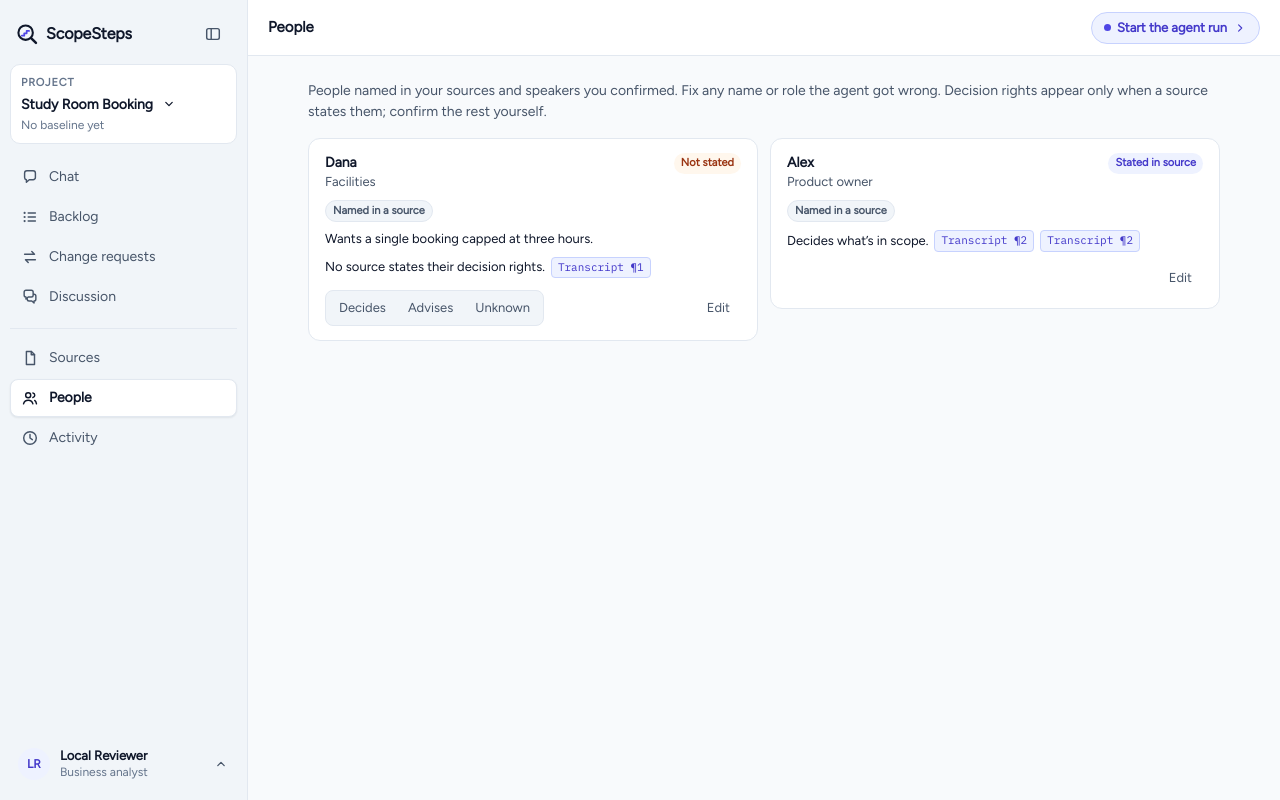
Scenario: People page › lets an editor correct a name and role in place, at the revision on screen
Expected: the element "Dana" is shown, 308,138 -> 758,341
Click the button with aria-label "Edit Dana": (718, 308) 696,293 -> 741,323
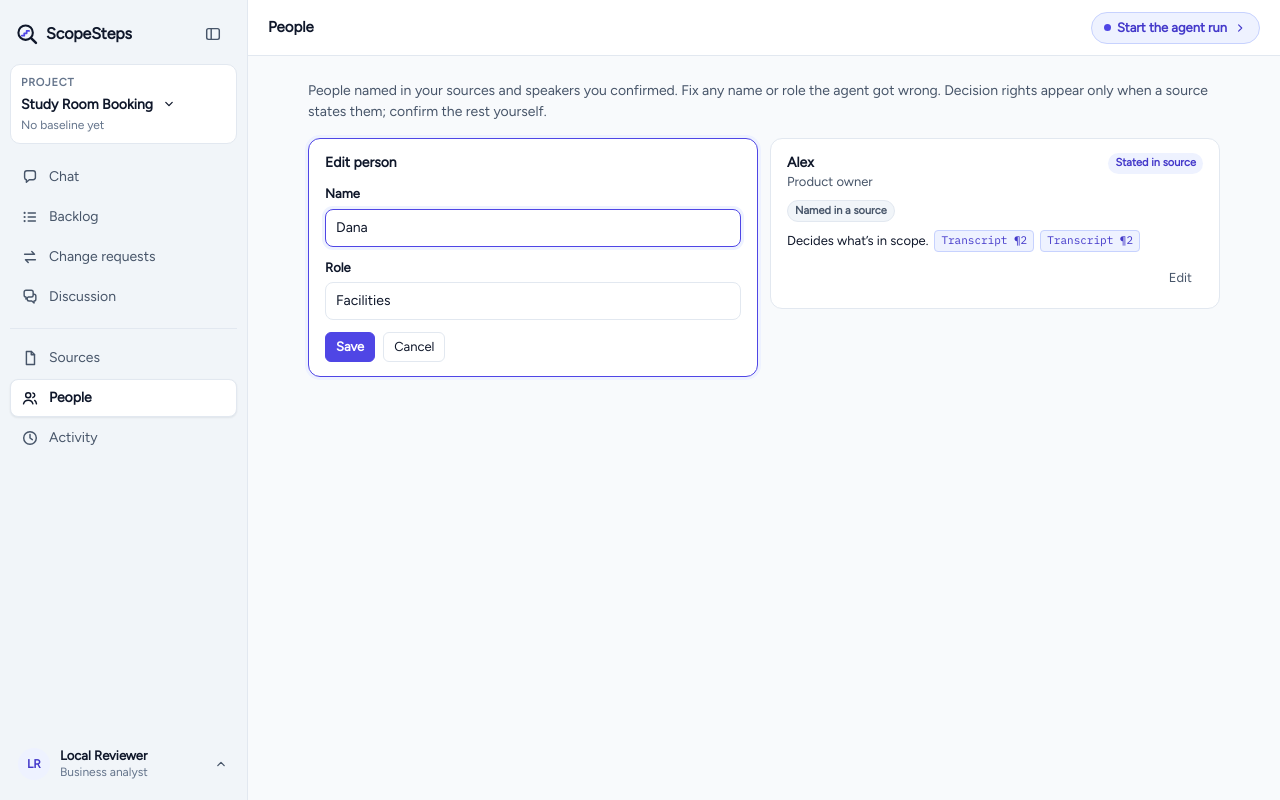
Replace the text in the field labelled "Name" with "  Dana Ruiz ": (533, 228) 325,209 -> 741,247
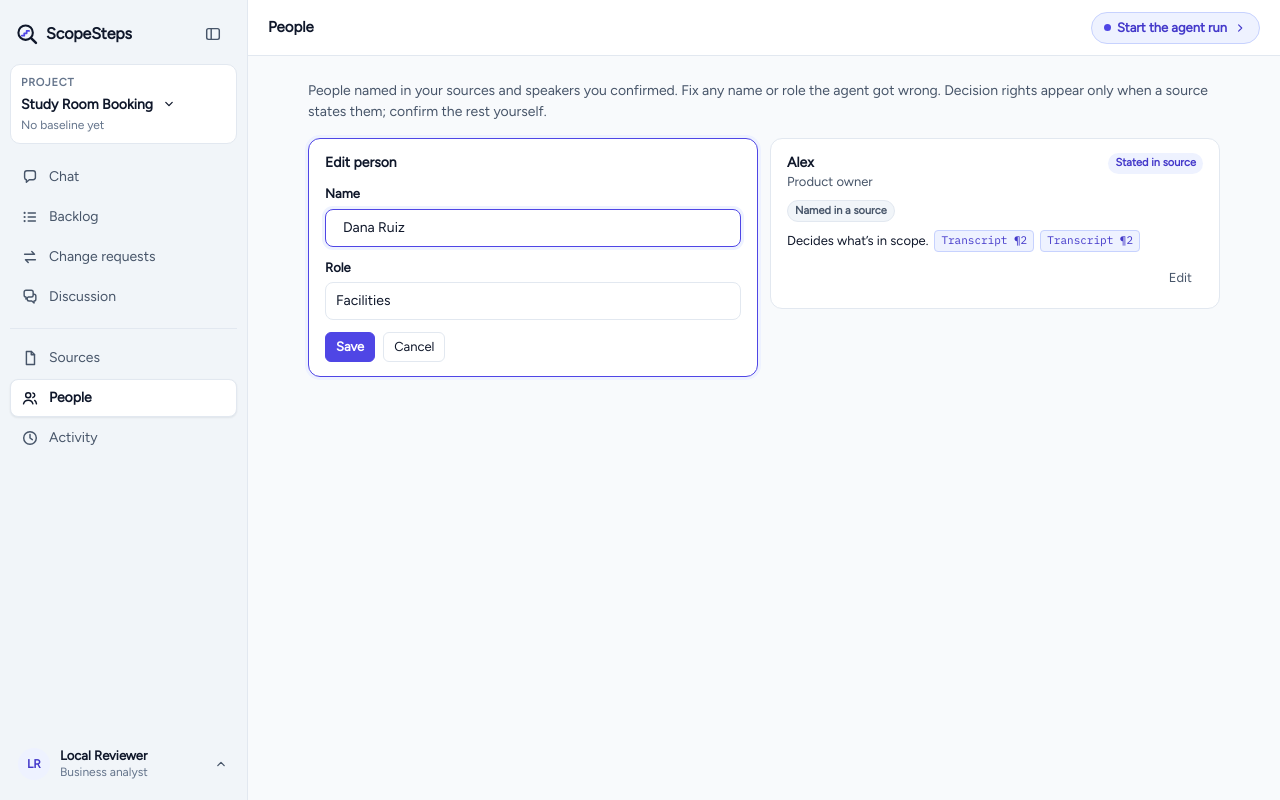
Replace the text in the field labelled "Role" with "Facilities lead": (533, 301) 325,282 -> 741,320
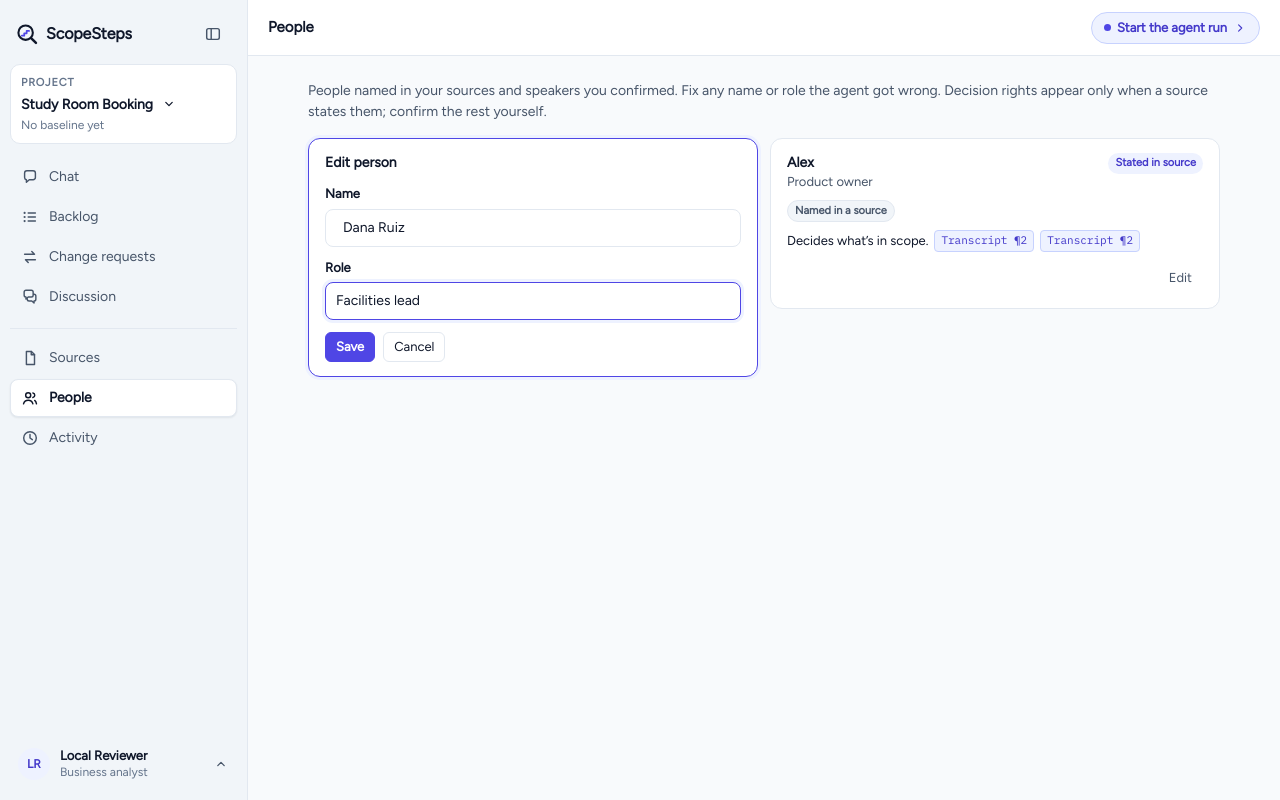
Click the button "Save": (350, 347) 325,332 -> 375,362
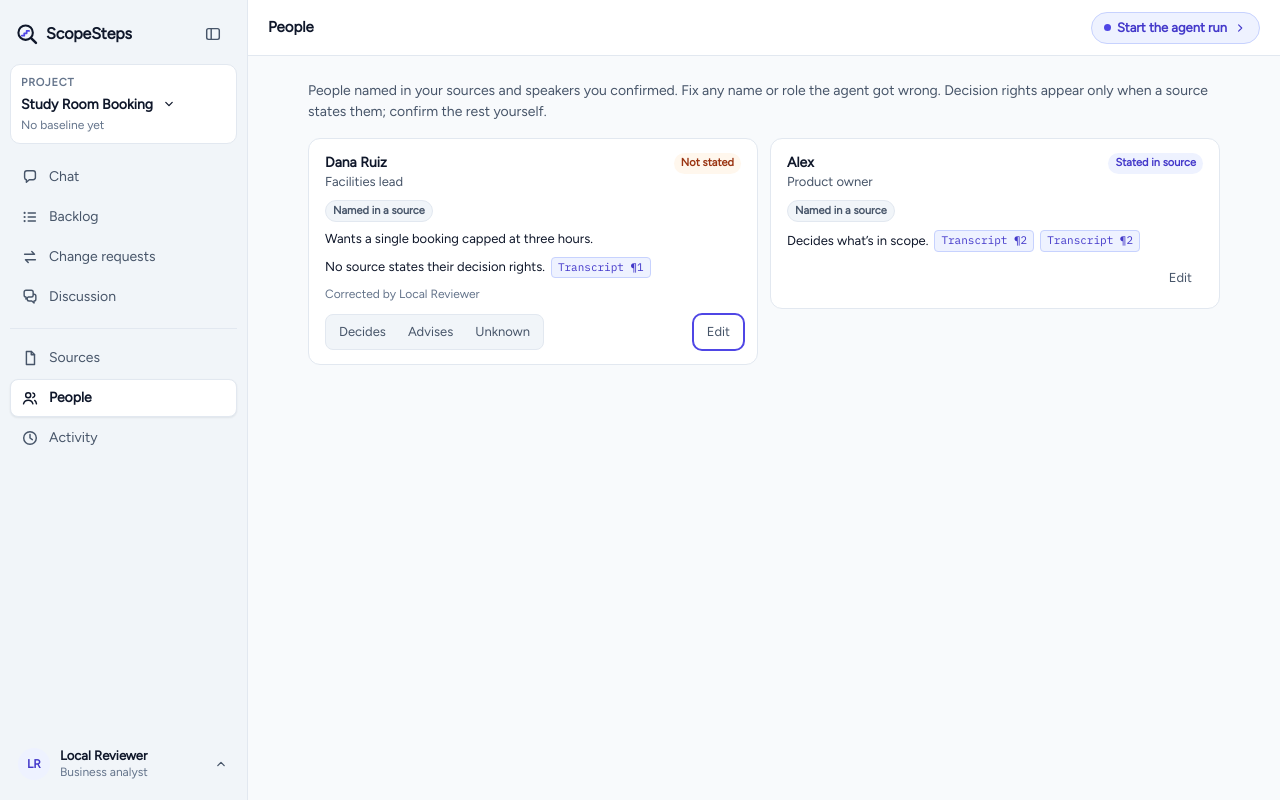
Expected: the element "Dana Ruiz" shows "Facilities lead", 325,174 -> 403,189
Expected: the element "Dana Ruiz" shows "Corrected by Local Reviewer", 325,287 -> 480,301
